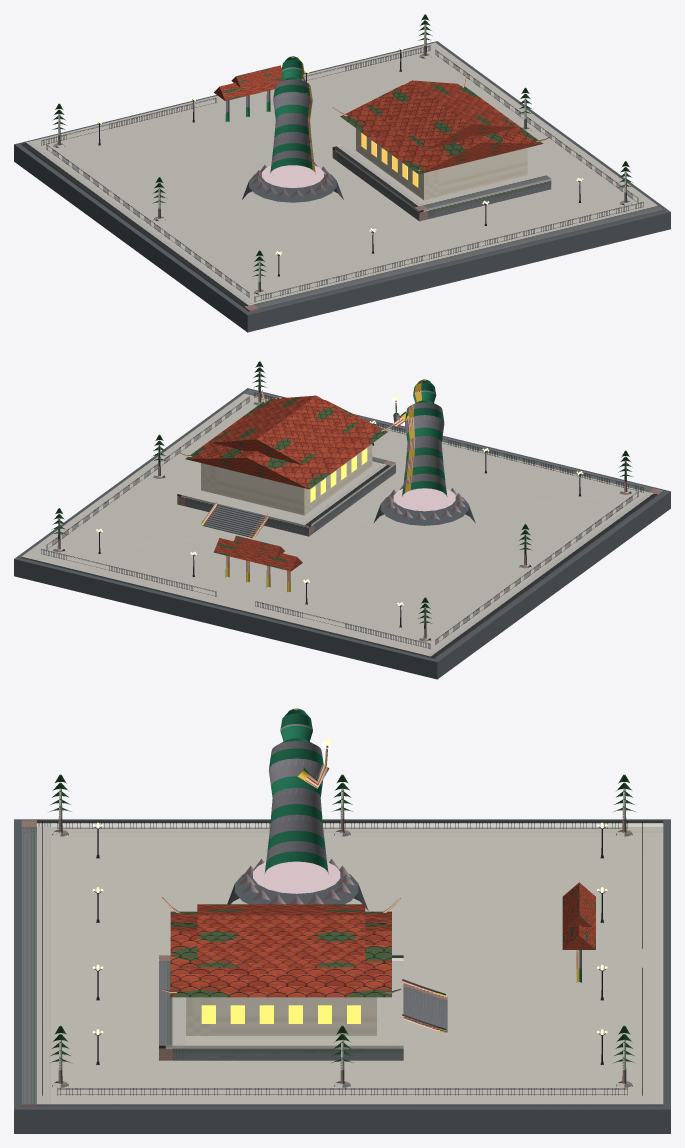
Rendered from ultra_lm_30_thien_vien_van_hanh.glb.
3 views of the same model, one above another, from view 1: azimuth 30°, elevation 25°; view 2: azimuth 150°, elevation 25°; view 3: azimuth 270°, elevation 25° (orthographic). The views are drawn at different scales.
Visible parts, largest first — view 1: VanHanh_DragonSteps_GraniteCurb_And_WormBrick, VanHanh_RockeryGrotto_And_Copernicus_Skirt, VanHanh_Curved_Fishscale_Pagoda_Roofs, VanHanh_WroughtIron_Balustrades_And_Streetlamps, VanHanh_24m_Golden_Shakyamuni_Lotus_Buddha, VanHanh_Sanctuary_And_Monastery_Stucco_Walls, VanHanh_6m_Carved_Lotus_Throne_Petals, VanHanh_Pine_And_Bonsai_Courtyard_Trees, Sanctuary_Amber_StainedGlass_Blend085; view 2: VanHanh_DragonSteps_GraniteCurb_And_WormBrick, VanHanh_RockeryGrotto_And_Copernicus_Skirt, VanHanh_Curved_Fishscale_Pagoda_Roofs, VanHanh_24m_Golden_Shakyamuni_Lotus_Buddha, VanHanh_WroughtIron_Balustrades_And_Streetlamps, VanHanh_Sanctuary_And_Monastery_Stucco_Walls, VanHanh_6m_Carved_Lotus_Throne_Petals, VanHanh_Pine_And_Bonsai_Courtyard_Trees, Sanctuary_Amber_StainedGlass_Blend085; view 3: VanHanh_DragonSteps_GraniteCurb_And_WormBrick, VanHanh_RockeryGrotto_And_Copernicus_Skirt, VanHanh_Curved_Fishscale_Pagoda_Roofs, VanHanh_24m_Golden_Shakyamuni_Lotus_Buddha, VanHanh_Sanctuary_And_Monastery_Stucco_Walls, VanHanh_WroughtIron_Balustrades_And_Streetlamps, VanHanh_6m_Carved_Lotus_Throne_Petals, Sanctuary_Amber_StainedGlass_Blend085, VanHanh_Pine_And_Bonsai_Courtyard_Trees.
Part boxes in pixels (x1,y1,x2,y2): VanHanh_DragonSteps_GraniteCurb_And_WormBrick: (21,24,663,311); VanHanh_RockeryGrotto_And_Copernicus_Skirt: (14,41,670,332); VanHanh_Curved_Fishscale_Pagoda_Roofs: (214,65,543,173); VanHanh_WroughtIron_Balustrades_And_Streetlamps: (41,45,643,301); VanHanh_24m_Golden_Shakyamuni_Lotus_Buddha: (225,56,551,173); VanHanh_Sanctuary_And_Monastery_Stucco_Walls: (356,128,527,200); VanHanh_6m_Carved_Lotus_Throne_Petals: (252,162,333,196); VanHanh_Pine_And_Bonsai_Courtyard_Trees: (52,14,632,276); Sanctuary_Amber_StainedGlass_Blend085: (361,133,418,187); VanHanh_DragonSteps_GraniteCurb_And_WormBrick: (21,371,663,658); VanHanh_RockeryGrotto_And_Copernicus_Skirt: (14,388,670,679); VanHanh_Curved_Fishscale_Pagoda_Roofs: (185,395,387,571); VanHanh_24m_Golden_Shakyamuni_Lotus_Buddha: (176,379,447,592); VanHanh_WroughtIron_Balustrades_And_Streetlamps: (41,392,643,648); VanHanh_Sanctuary_And_Monastery_Stucco_Walls: (201,444,372,515); VanHanh_6m_Carved_Lotus_Throne_Petals: (384,485,465,519); VanHanh_Pine_And_Bonsai_Courtyard_Trees: (52,361,632,623); Sanctuary_Amber_StainedGlass_Blend085: (310,448,367,502); VanHanh_DragonSteps_GraniteCurb_And_WormBrick: (21,788,663,1106); VanHanh_RockeryGrotto_And_Copernicus_Skirt: (14,819,670,1133); VanHanh_Curved_Fishscale_Pagoda_Roofs: (170,882,595,997); VanHanh_24m_Golden_Shakyamuni_Lotus_Buddha: (161,708,581,1032); VanHanh_Sanctuary_And_Monastery_Stucco_Walls: (186,997,376,1035); VanHanh_WroughtIron_Balustrades_And_Streetlamps: (42,821,642,1095); VanHanh_6m_Carved_Lotus_Throne_Petals: (238,859,354,904); Sanctuary_Amber_StainedGlass_Blend085: (201,1005,360,1023); VanHanh_Pine_And_Bonsai_Courtyard_Trees: (49,774,635,1063).
Size of the model in its own units: 90 by 33.85 by 86.
Materials: 10 (4 with a texture image).
